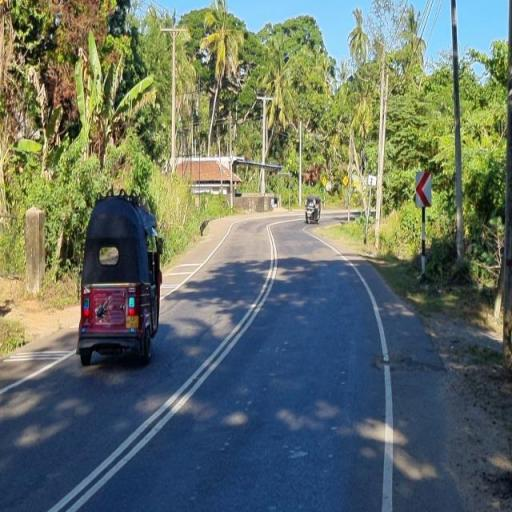double_white_line: (47, 218, 283, 512)
